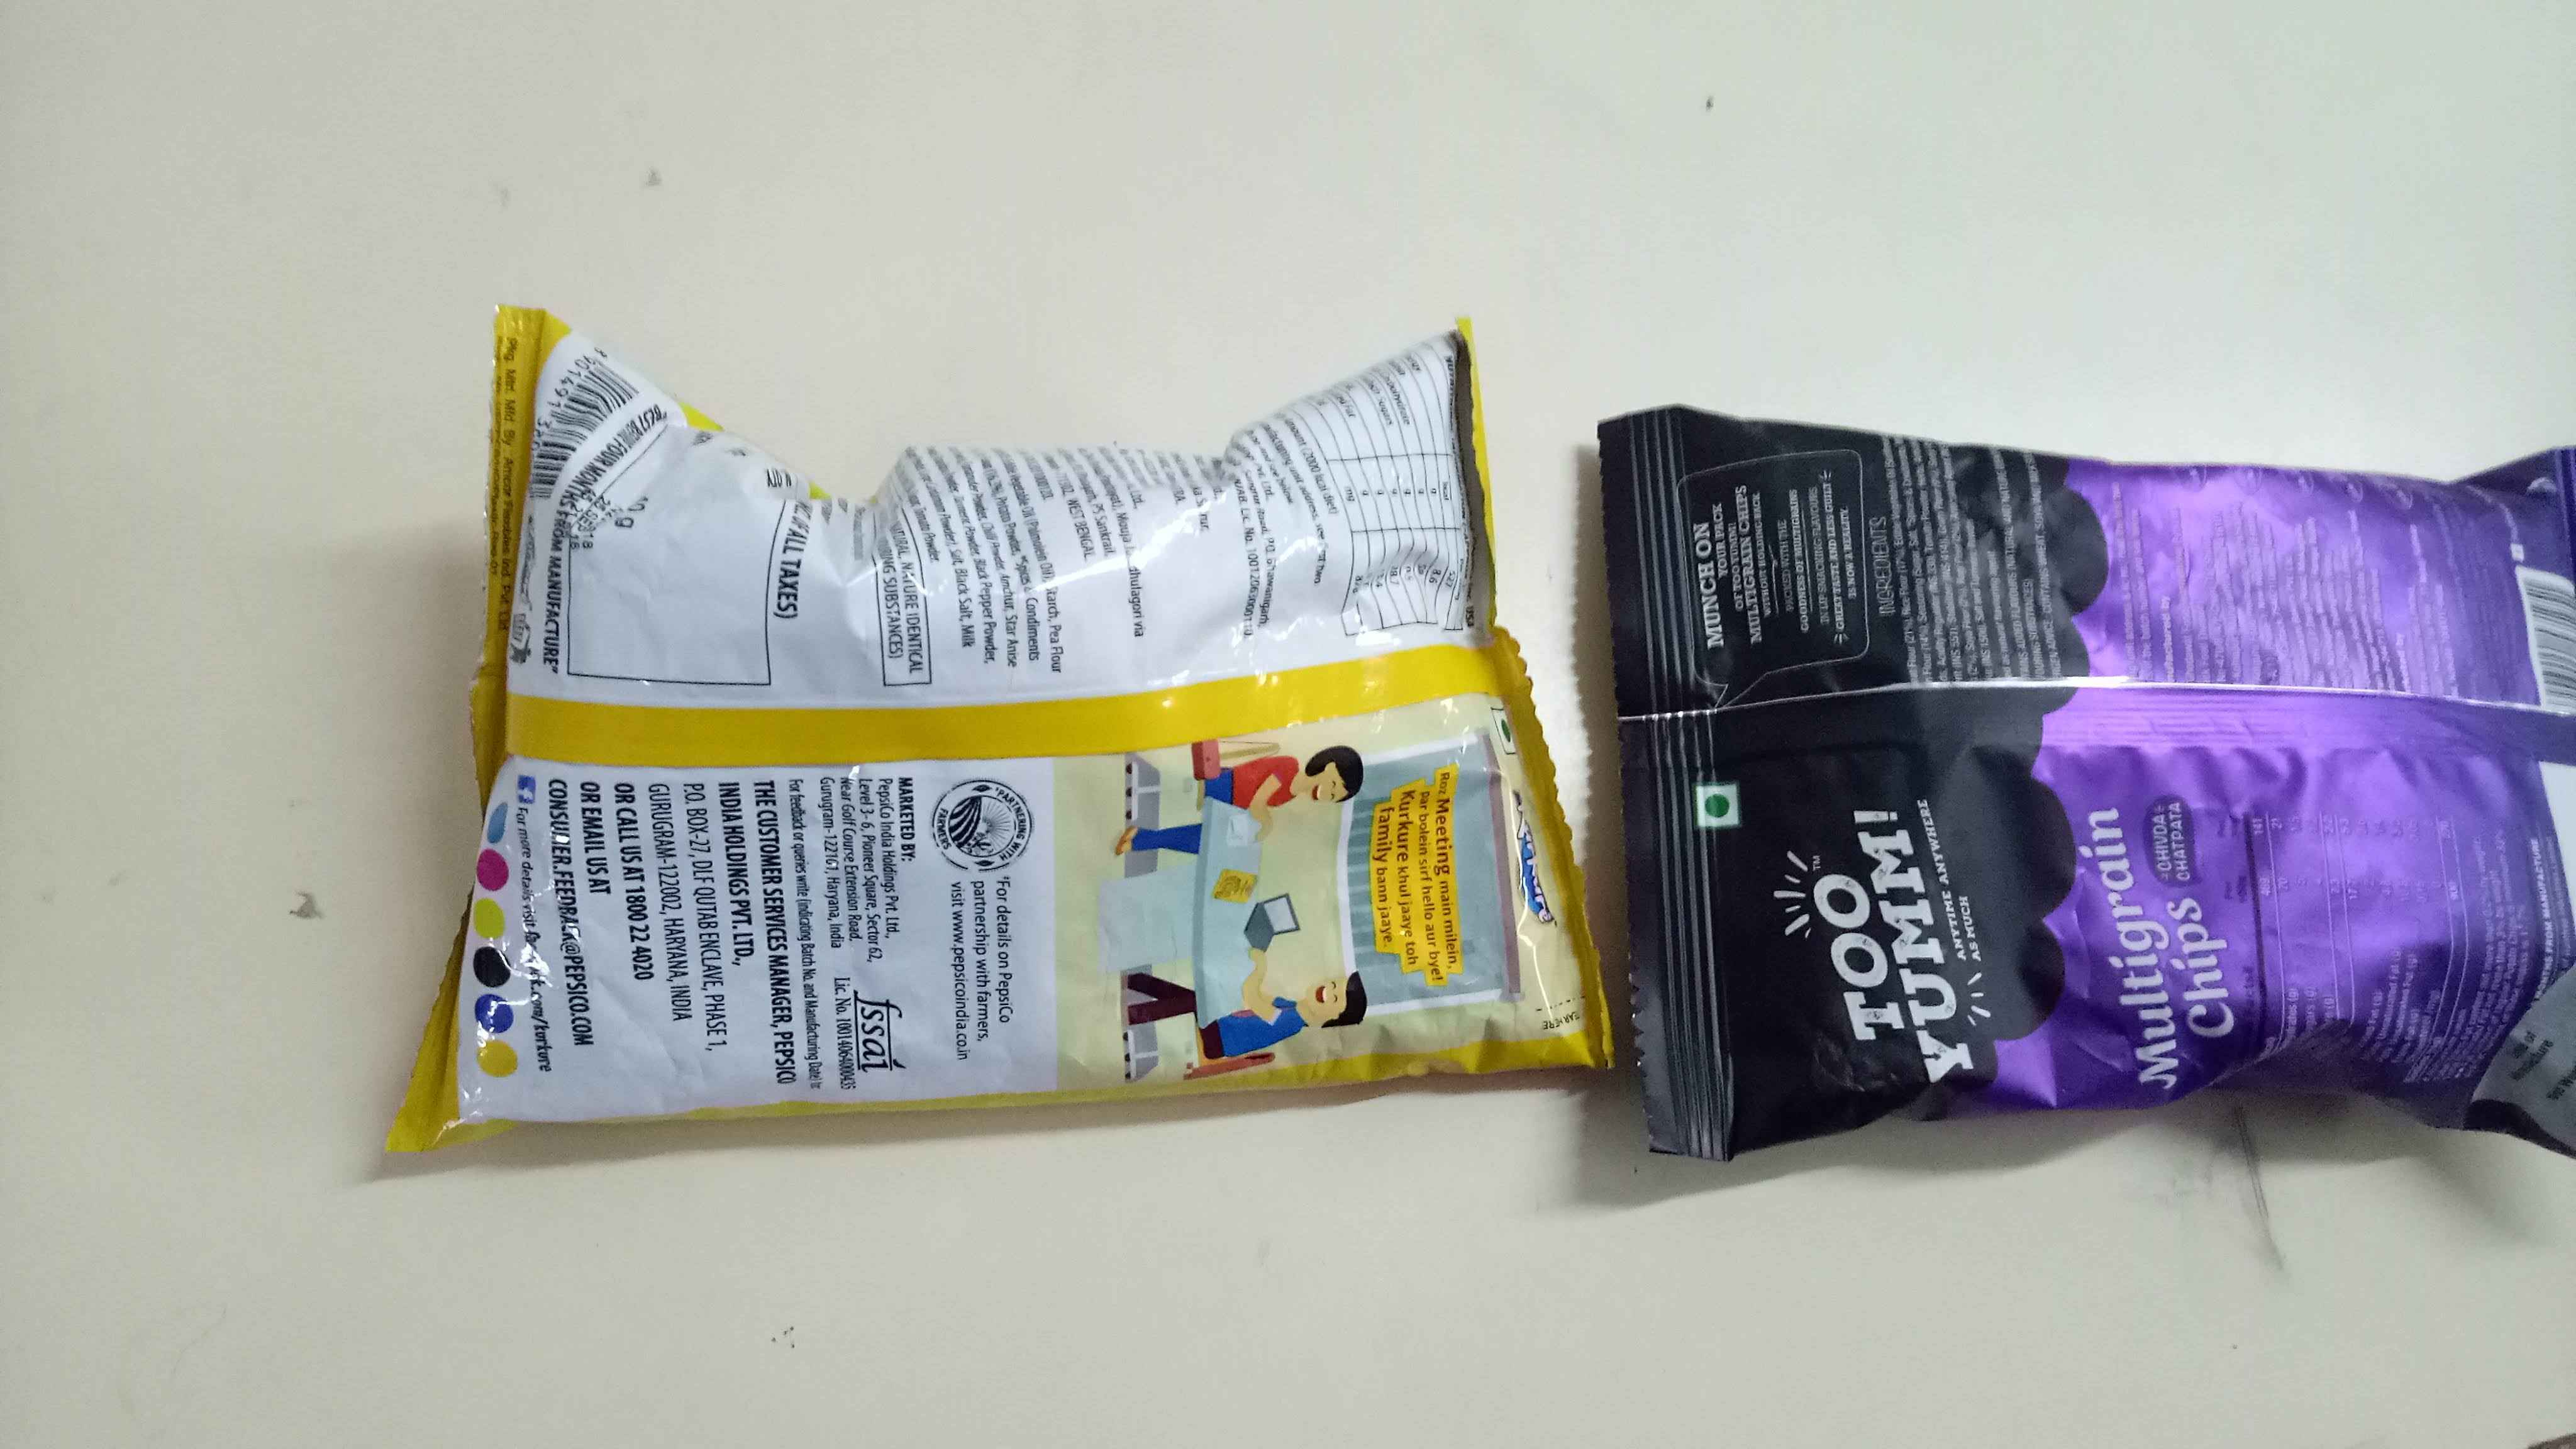kurkure: (1497, 784, 1591, 954)
tooyumm: (1764, 798, 2001, 1086)
